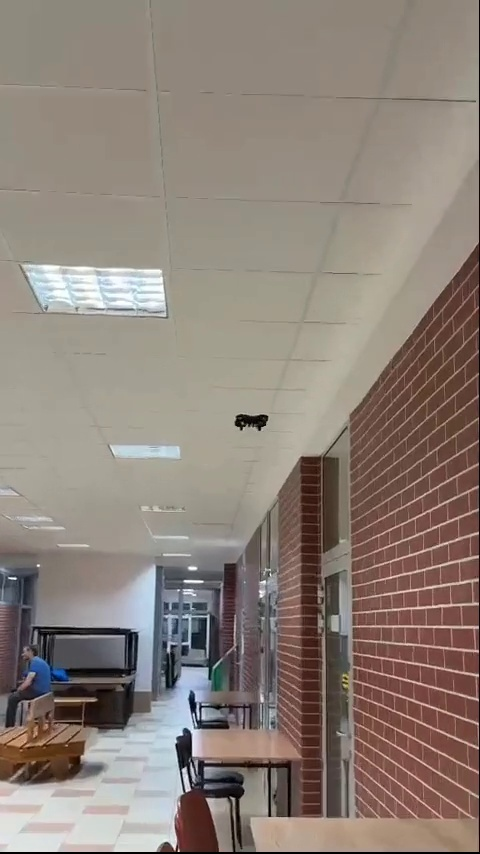drone: (236, 414, 269, 431)
no vest: (8, 642, 55, 724)
